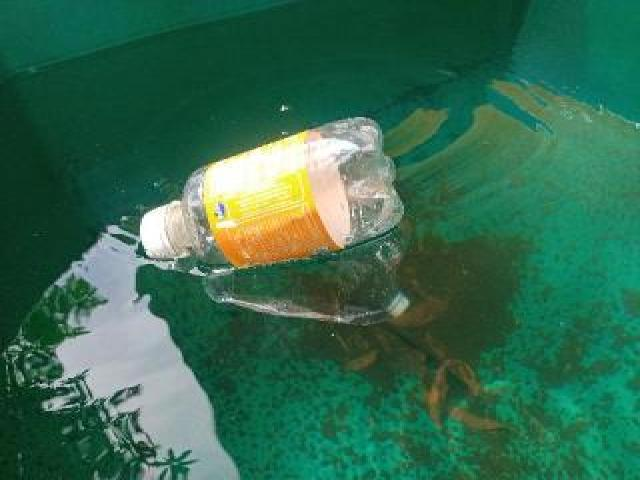Bottle: (129, 112, 410, 278)
